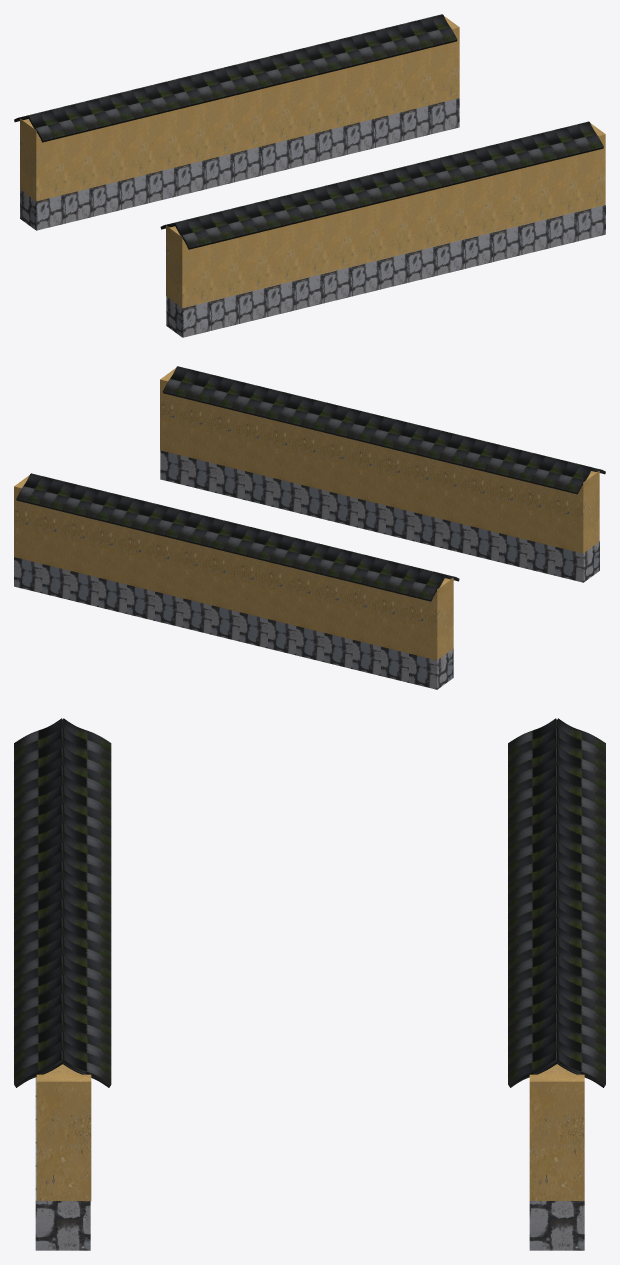
File: 武家屋敷 .fbx
The picture shows the model from 3 angles, top to bottom: view 1: azimuth 30°, elevation 25°; view 2: azimuth 150°, elevation 25°; view 3: azimuth 270°, elevation 25°; orthographic projection. The views are drawn at different scales.
Parts seen in each view (by area): view 1: 立方体, 立方体.001, 石壁.001, 石壁, 瓦.001, 瓦.002, 瓦, 瓦.003; view 2: 立方体.001, 立方体, 石壁, 石壁.001, 瓦.003, 瓦, 瓦.001, 瓦.002; view 3: 瓦.003, 瓦.002, 瓦.001, 瓦, 立方体, 立方体.001, 石壁.001, 石壁.
Boxes of the visible parts, x1,y1,x2,y2 form: 立方体: (20,16,459,201); 立方体.001: (166,123,605,307); 石壁.001: (166,205,605,337); 石壁: (20,98,459,230); 瓦.001: (28,14,457,142); 瓦.002: (175,122,603,249); 瓦: (14,14,442,122); 瓦.003: (160,121,589,229); 立方体.001: (160,368,599,553); 立方体: (14,475,453,660); 石壁: (14,557,453,689); 石壁.001: (160,450,599,582); 瓦.003: (162,366,591,494); 瓦: (16,474,444,601); 瓦.001: (31,473,459,581); 瓦.002: (177,366,605,474); 瓦.003: (62,718,111,1087); 瓦.002: (14,718,62,1087); 瓦.001: (508,718,556,1087); 瓦: (557,718,605,1087); 立方体: (529,1064,584,1201); 立方体.001: (36,1064,91,1201); 石壁.001: (35,1077,90,1250); 石壁: (529,1201,584,1250).
Size of the model in its own units: 15000 by 3697 by 10767.
